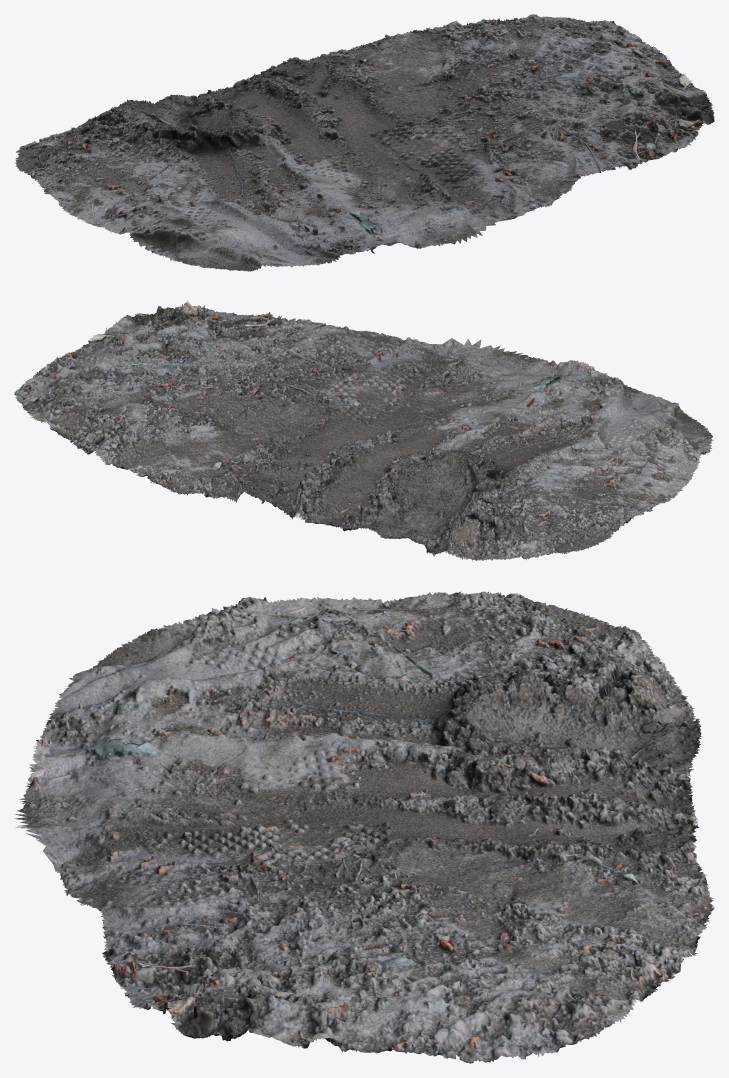
File: close_sand_with_tracks.glb
The picture shows the model from 3 angles, top to bottom: view 1: azimuth 30°, elevation 25°; view 2: azimuth 150°, elevation 25°; view 3: azimuth 270°, elevation 25°; orthographic projection. The views are drawn at different scales.
Parts seen in each view (by area): view 1: close_up_sand_and_prints_ground_4; view 2: close_up_sand_and_prints_ground_4; view 3: close_up_sand_and_prints_ground_4.
Boxes of the visible parts, box(x1,y1,x2,y2) form: close_up_sand_and_prints_ground_4: box(15, 14, 714, 271); close_up_sand_and_prints_ground_4: box(14, 300, 713, 561); close_up_sand_and_prints_ground_4: box(14, 591, 714, 1063).
Size of the model in its own units: 5.9 by 0.3984 by 3.81.
Materials: 1 (1 with a texture image).
